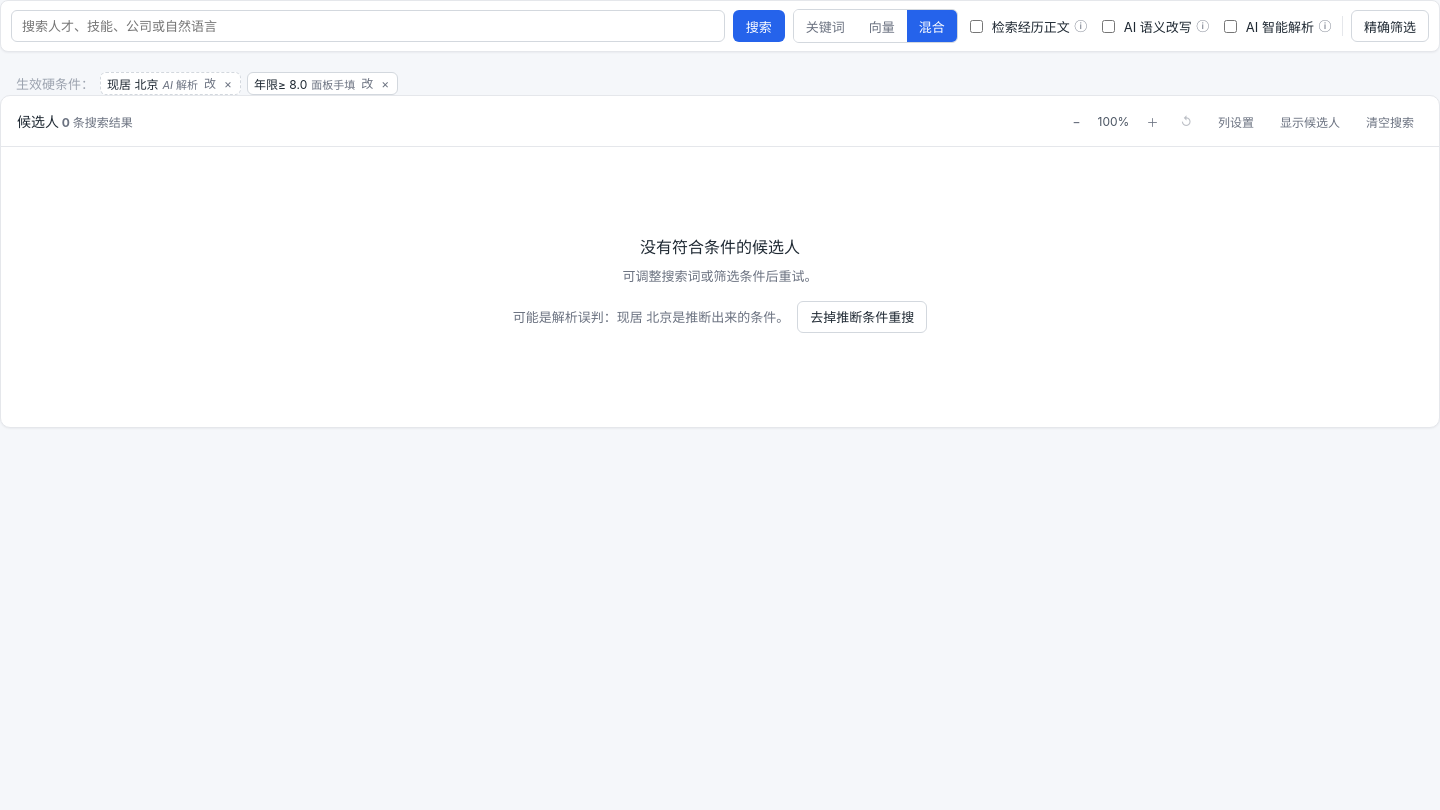
effective conditions show the merged source and can be edited or removed
Expected: the list item "现居 北京 AI 解析 改 ×" is shown, [100,72,241,95]
Expected: the text "AI 解析" is shown, [162,76,198,92]
Click the button named "移除条件 现居 北京".
click(228, 84)  # box [222,78,234,90]
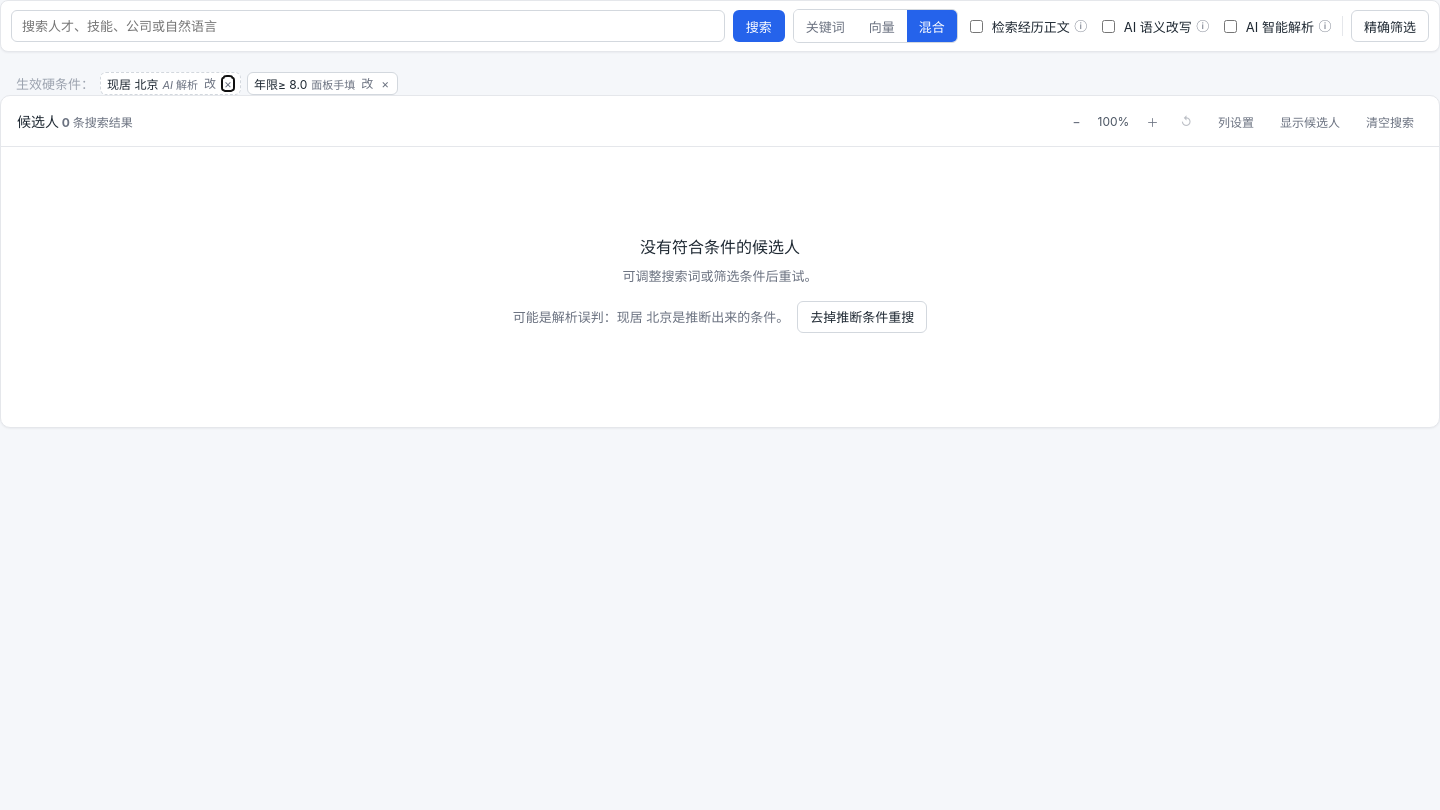
Click the button named "修改条件 年限≥ 8.0".
click(367, 84)  # box [359,78,375,90]
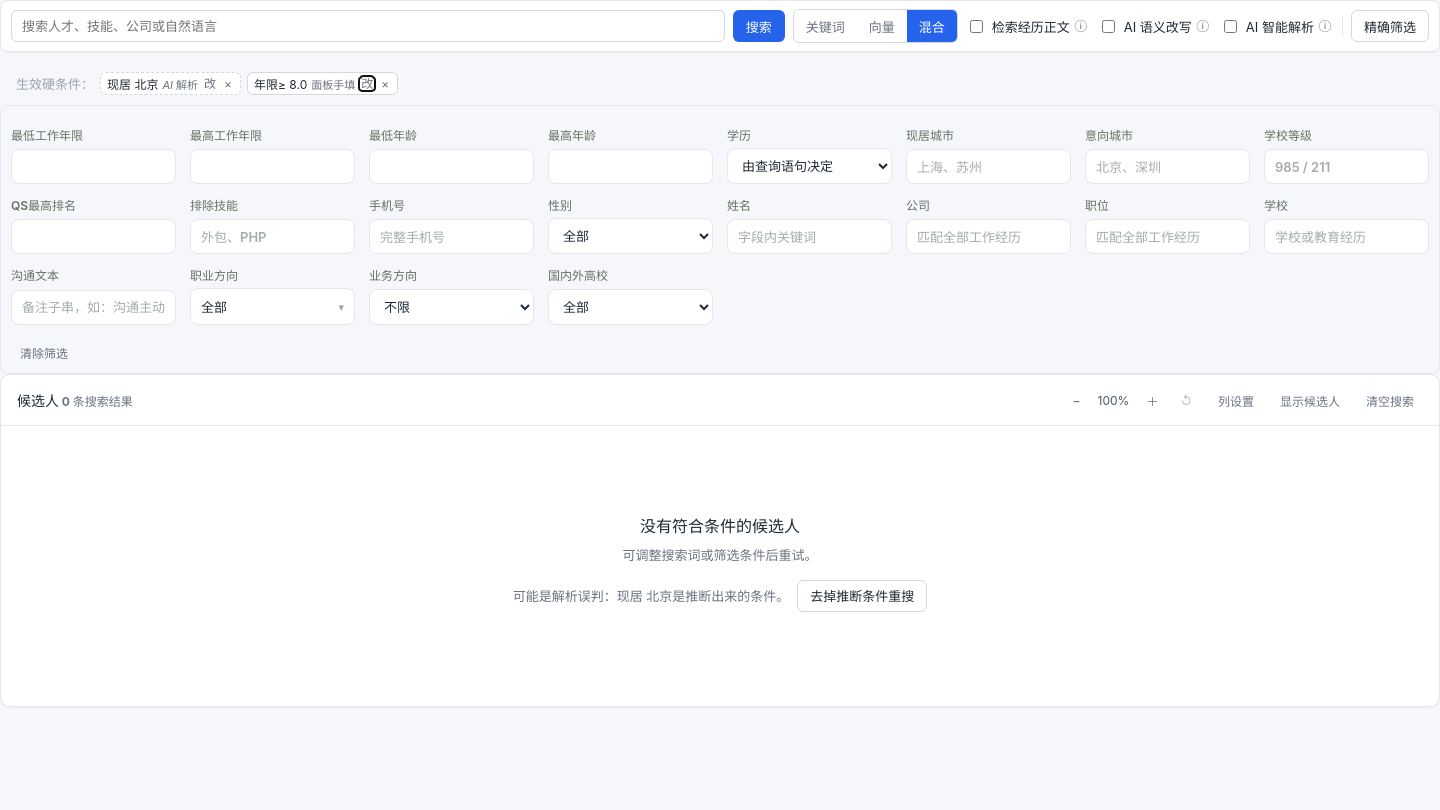
Expected: the number field labelled "最低工作年限" is shown, [11,149,176,184]
